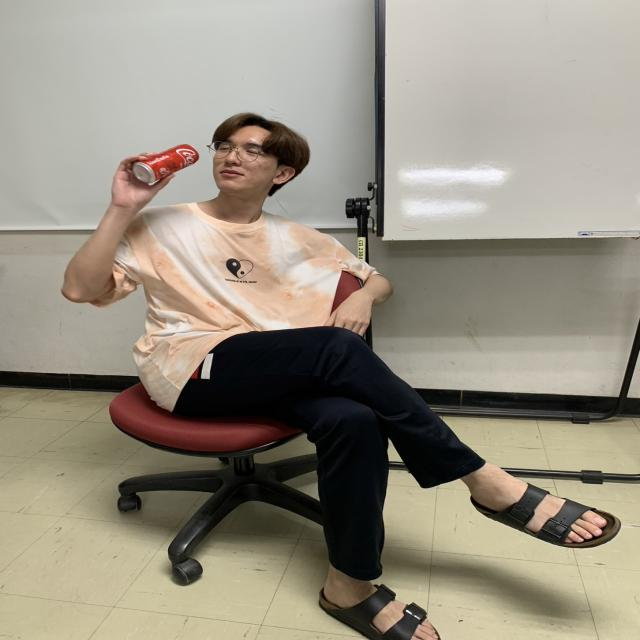can: (133, 142, 201, 185)
